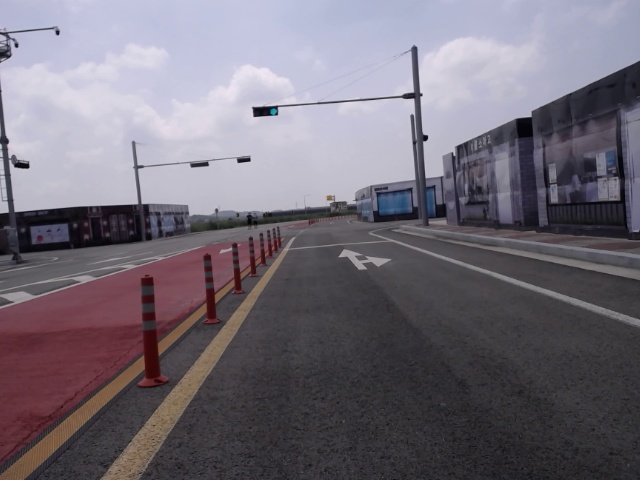green_3: (253, 107, 279, 117)
